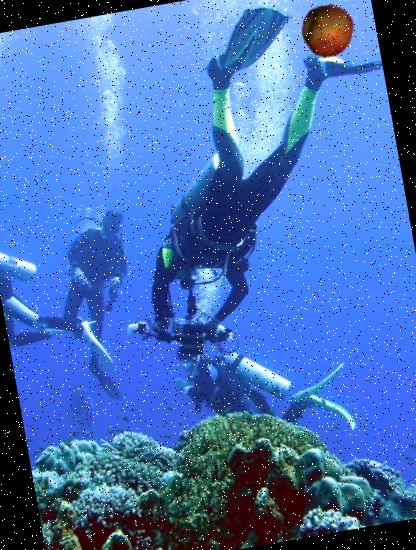Nectarine: (296, 0, 359, 62)
